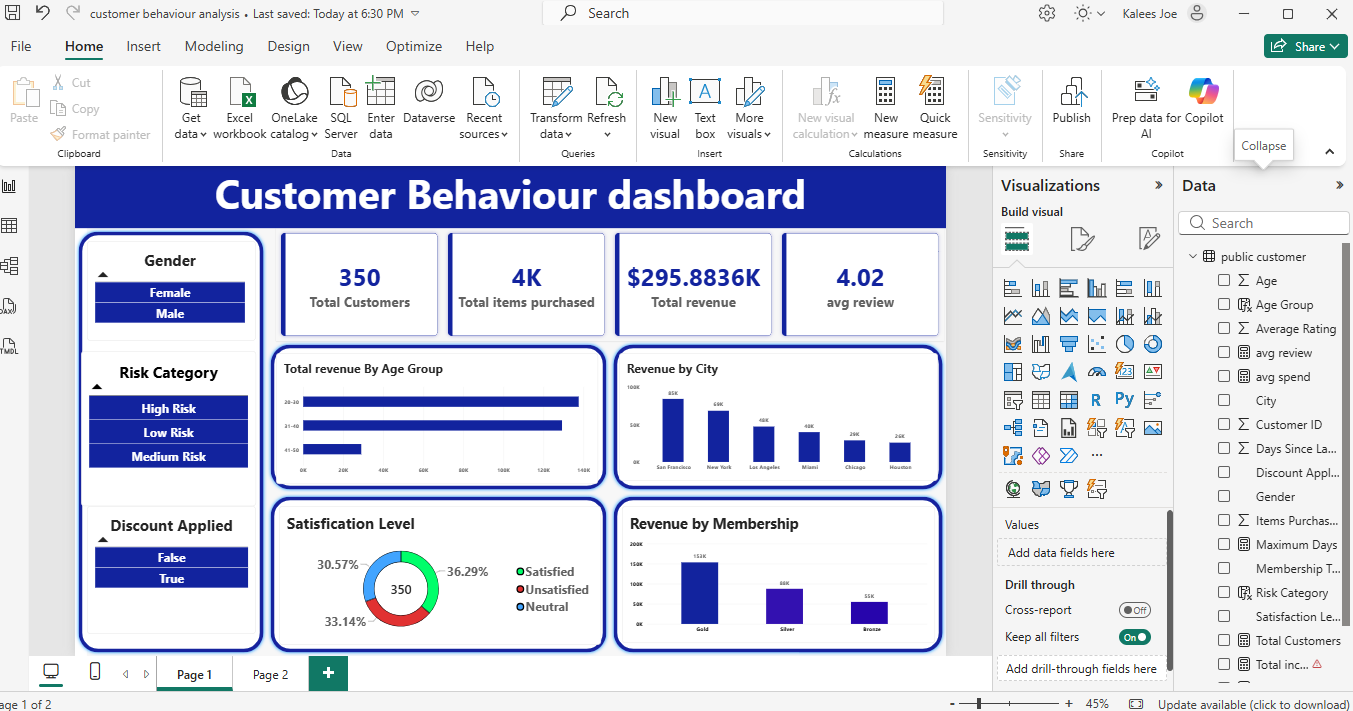

Layout of this report page (visuals, bound fields, positions):
{"tool":"powerbi","page":{"name":"Page 1","canvas":[1920,1080],"ordinal":0},"visuals":[{"type":"shape","box":[0,0,26.4,1082.2],"z":0},{"type":"textbox","box":[150,117.2,300,150],"z":1000},{"type":"textbox","box":[100,100,300,300],"z":2000},{"type":"textbox","box":[100,100,300,300],"z":3000},{"type":"textbox","box":[100,100,300,300],"z":4000},{"type":"textbox","box":[0,0,1919.8,136.7],"z":5000},{"type":"actionButton","box":[0,0,200,50],"z":6000},{"type":"shape","box":[1179.2,385.7,740.6,335],"z":8000},{"type":"cardVisual","fields":{"Data":["public customer.Total Customers","public customer.Total items purchased","public customer.Total revenue","public customer.avg review"]},"box":[443,136.7,1472.3,249.1],"z":9000},{"type":"shape","box":[423.2,720.7,756,359.3],"z":10000},{"type":"shape","box":[1179.2,720.7,740.6,359.3],"z":11000},{"type":"donutChart","title":"Satisfication Level","fields":{"Category":["public customer.Satisfaction Level"],"Y":["CountNonNull(public customer.Customer ID)"]},"box":[449.6,749.4,709.7,306.4],"z":12000},{"type":"clusteredColumnChart","title":"Revenue by City","fields":{"Category":["public customer.City"],"Y":["public customer.Total revenue"]},"box":[1199,412.2,703.1,282.1],"z":13000},{"type":"columnChart","title":"Revenue by Membership ","fields":{"Category":["public customer.Membership Type"],"Y":["Sum(public customer.Total Spend)"]},"box":[1205.6,749.4,689.9,302],"z":14000},{"type":"shape","box":[423.2,385.7,756,335],"z":15000},{"type":"clusteredBarChart","title":"Total revenue By Age Group","fields":{"Category":["public customer.Age Group"],"Y":["public customer.Total revenue"]},"box":[443,405.6,709.7,288.7],"z":16000},{"type":"shape","box":[0,136.7,423.2,943.3],"z":17000},{"type":"tableEx","fields":{"Values":["public customer.Risk Category"]},"box":[13.2,407.8,385.7,341.6],"z":18000},{"type":"tableEx","fields":{"Values":["public customer.Gender"]},"box":[26.4,165.3,372.5,220.4],"z":19000},{"type":"tableEx","fields":{"Values":["public customer.Discount Applied"]},"box":[26.4,749.4,372.5,282.1],"z":20000}]}

Visuals, with their boxes on the page's 1920x1080 design canvas (x1, y1, x2, y2). These are canvas units, not pixel positions in the 1353x711 screenshot, which may show the page scaled, cropped or inside an application window:
shape: bbox=[0, 0, 26, 1082]
textbox: bbox=[150, 117, 450, 267]
textbox: bbox=[100, 100, 400, 400]
textbox: bbox=[100, 100, 400, 400]
textbox: bbox=[100, 100, 400, 400]
textbox: bbox=[0, 0, 1920, 137]
actionButton: bbox=[0, 0, 200, 50]
shape: bbox=[1179, 386, 1920, 721]
cardVisual - public customer.Total Customers x public customer.Total items purchased: bbox=[443, 137, 1915, 386]
shape: bbox=[423, 721, 1179, 1080]
shape: bbox=[1179, 721, 1920, 1080]
"Satisfication Level" donutChart: bbox=[450, 749, 1159, 1056]
"Revenue by City" clusteredColumnChart: bbox=[1199, 412, 1902, 694]
"Revenue by Membership " columnChart: bbox=[1206, 749, 1896, 1051]
shape: bbox=[423, 386, 1179, 721]
"Total revenue By Age Group" clusteredBarChart: bbox=[443, 406, 1153, 694]
shape: bbox=[0, 137, 423, 1080]
tableEx - public customer.Risk Category: bbox=[13, 408, 399, 749]
tableEx - public customer.Gender: bbox=[26, 165, 399, 386]
tableEx - public customer.Discount Applied: bbox=[26, 749, 399, 1032]
